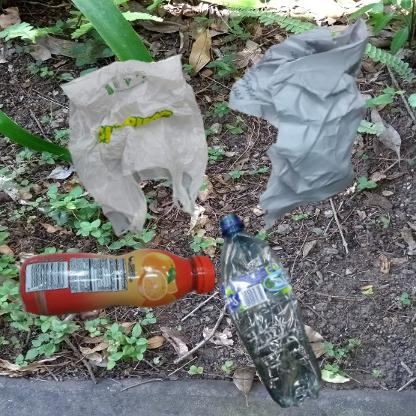bolsa: (10, 10, 283, 290)
botella: (10, 213, 249, 372), (213, 213, 330, 412)
papel: (213, 10, 416, 246)
